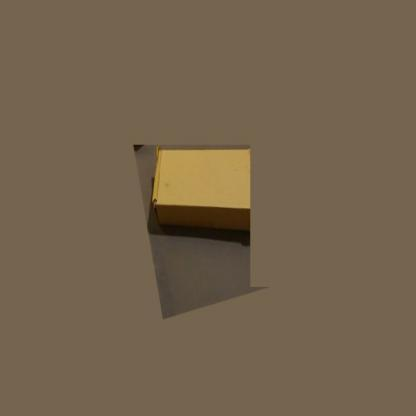package: (152, 151, 251, 226)
